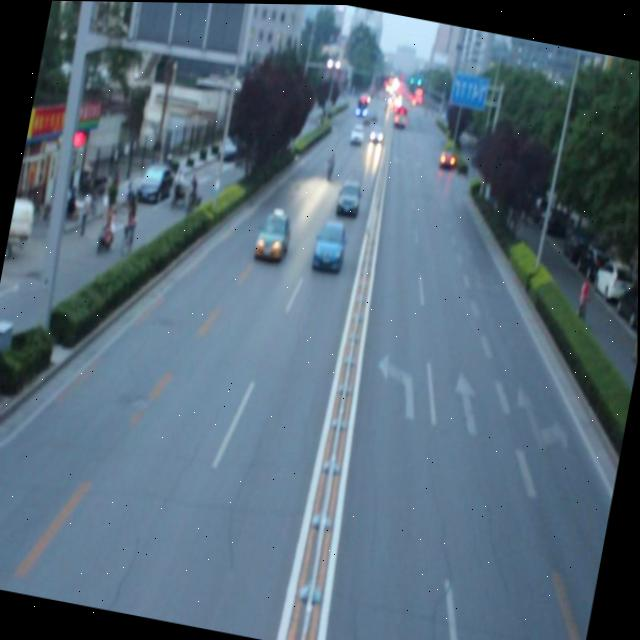car: (252, 201, 294, 266), (309, 214, 349, 272), (333, 174, 363, 218)
